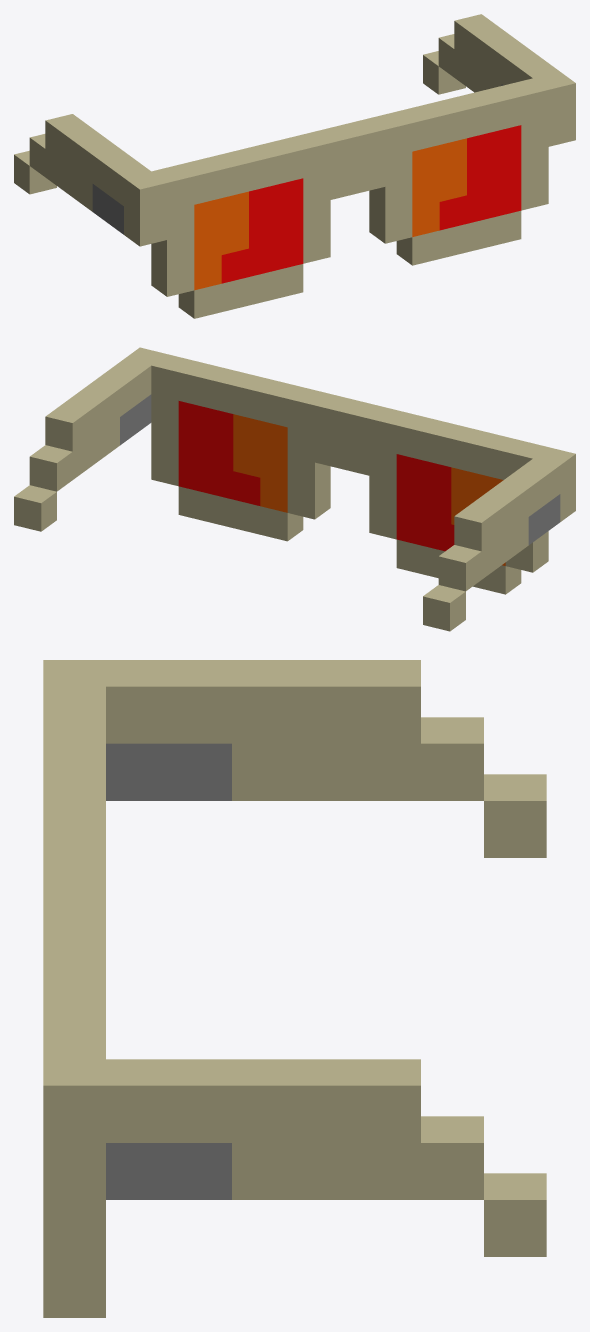
Rendered from Voxel Universe Objects-32.obj.
3 views of the same model, one above another, from view 1: azimuth 30°, elevation 25°; view 2: azimuth 150°, elevation 25°; view 3: azimuth 270°, elevation 25° (orthographic). The views are drawn at different scales.
Size of the model in its own units: 1.6 by 0.5 by 0.8.
1 material, 1 textured.
